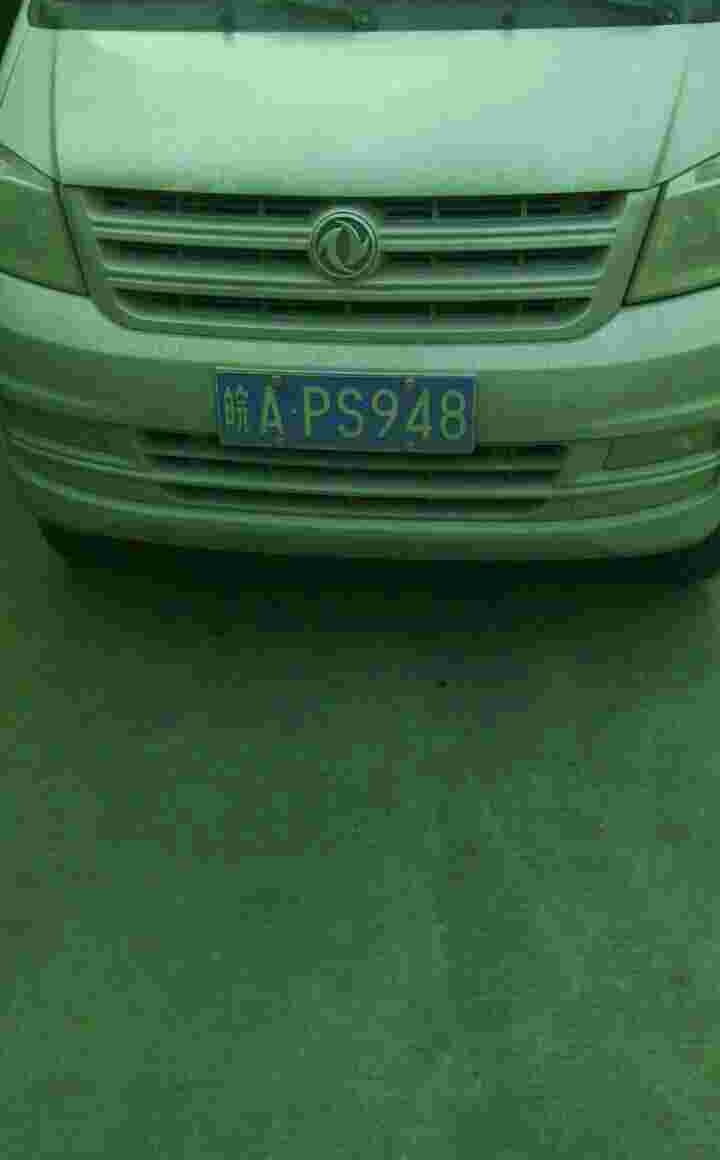license_plate: (218, 372, 476, 447)
